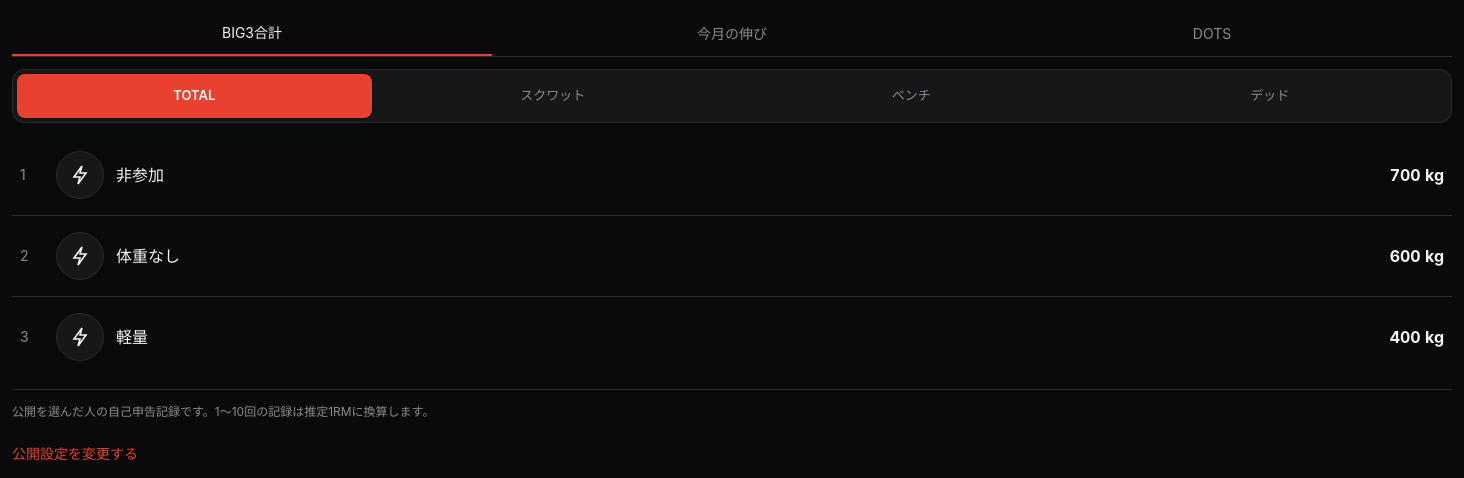
Test: lists only opted-in members on the DOTS tab with unit-less scores
Expected: the text "700 kg" is shown, [1390, 163, 1444, 187]
Expected: the list is shown, [12, 135, 1452, 377]
Click the button "DOTS" at (1212, 34), box [972, 12, 1452, 56]
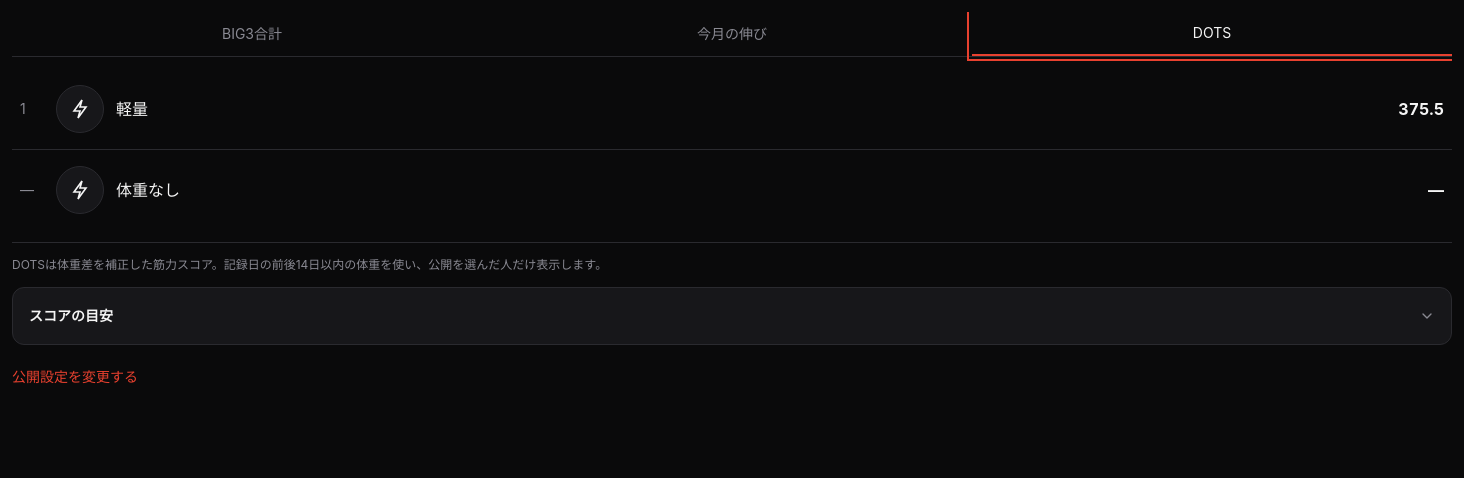
Expected: the list items read "1軽量375.5", "—体重なし—", in this order, [12, 69, 1452, 150]; [12, 150, 1452, 230]
Expected: the button "非参加" is gone
